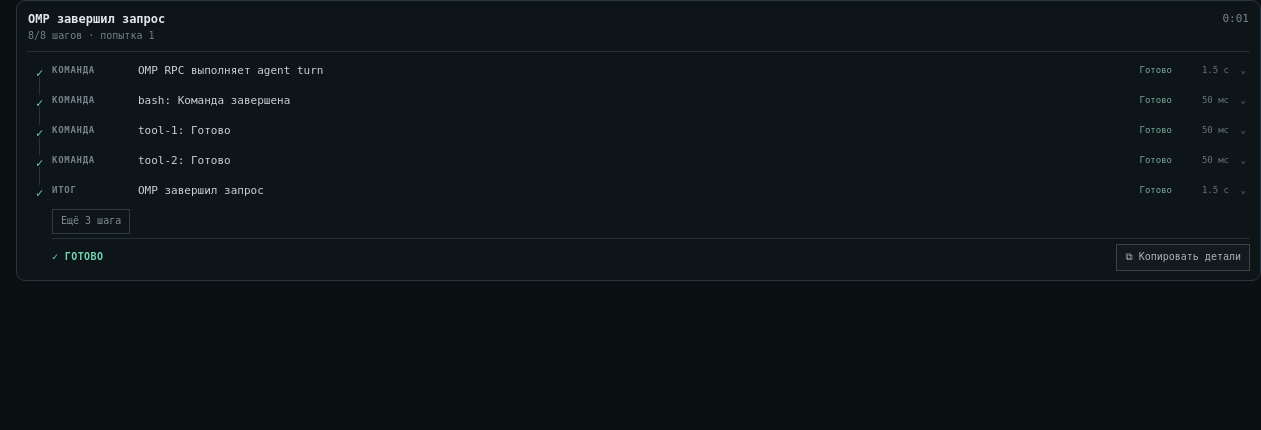
Scenario: ActivityStream › keeps a compact five-row rail and expands observed tool details
expect the number of list items is 5: met, box [27,56,1250,86]; [27,86,1250,116]; [27,116,1250,146]; [27,146,1250,176]; [27,176,1250,206]
Click the button "Ещё 3 шага".
click(91, 221)  # box [52,209,130,234]
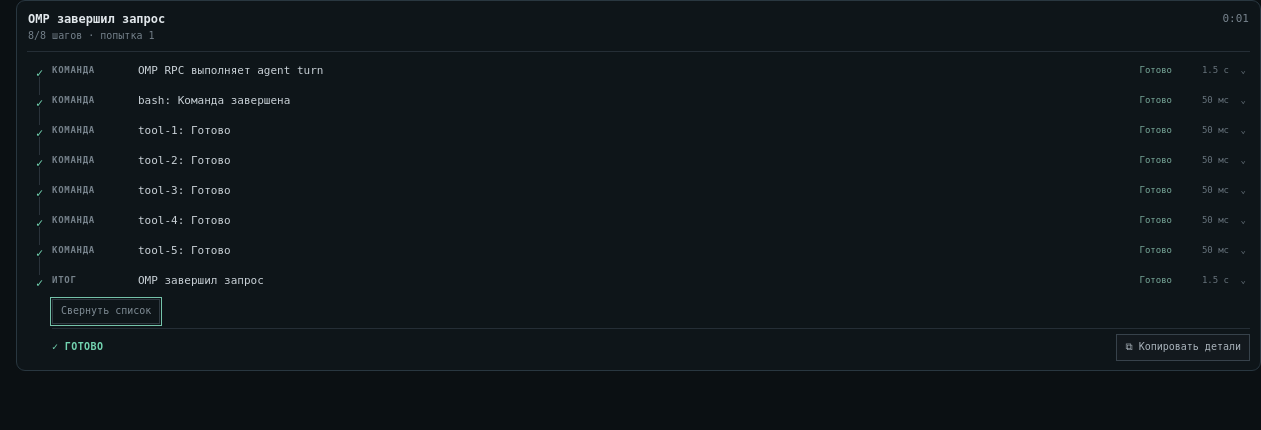
expect the number of list items is 8: met
Click the button "Команда bash: Команда завершена Готово 50 мс ⌄".
click(73, 100)  # box [52,86,1250,116]
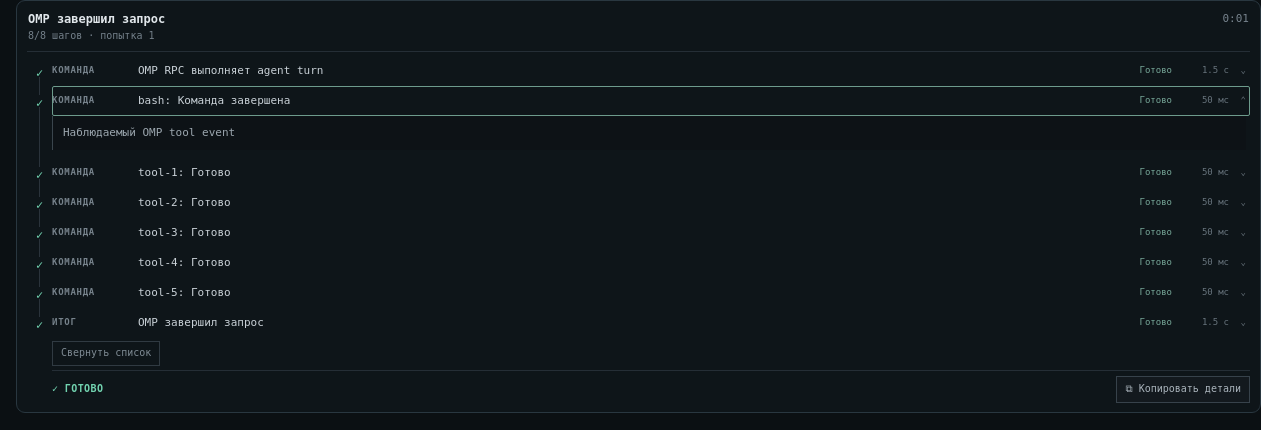
expect the text "Наблюдаемый OMP tool event" is shown: met, box [63,126,235,139]
